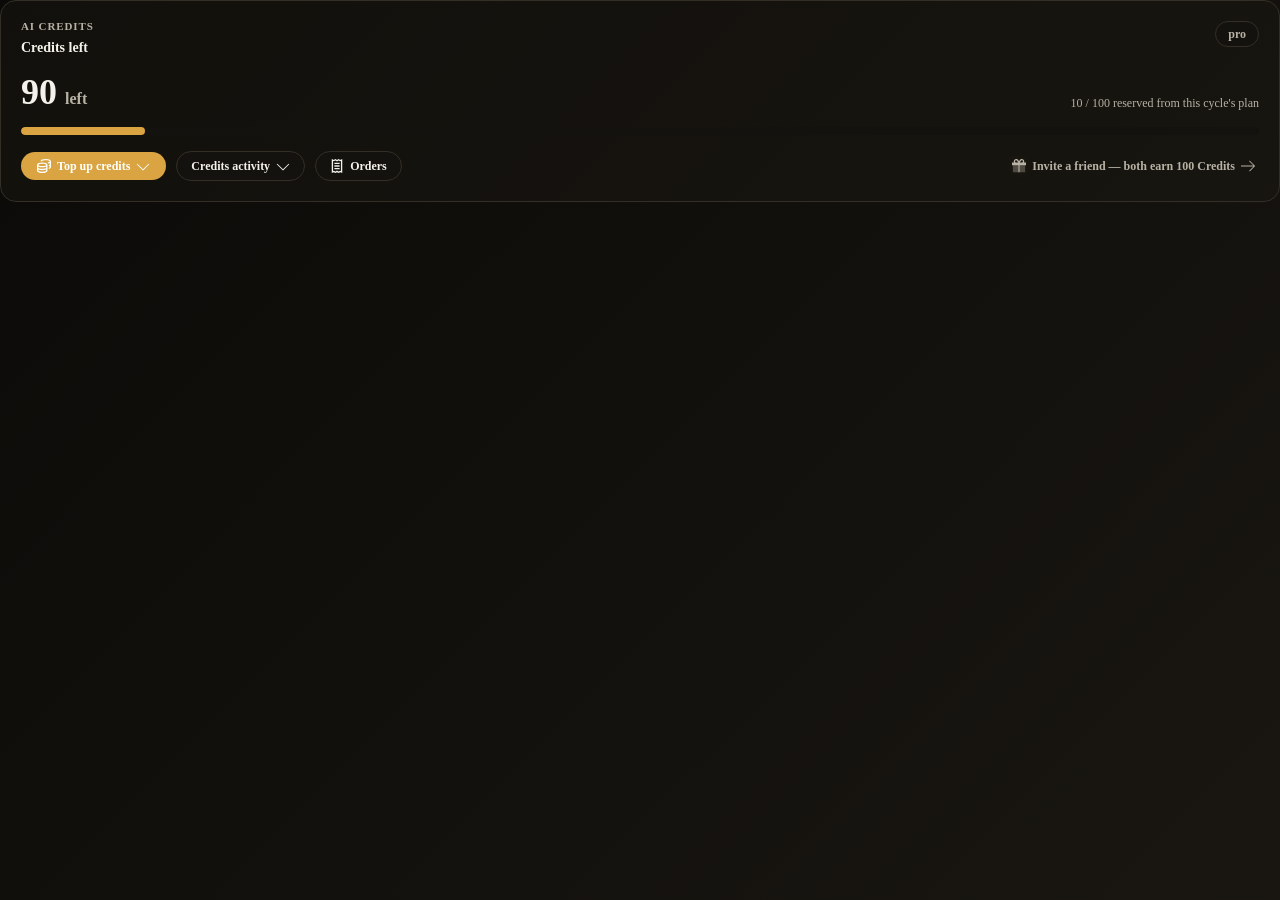
Scenario: CreditBalanceCard › reveals the activity ledger after a click
Click the button "Credits activity".
click(241, 166)  # box [176,151,305,181]
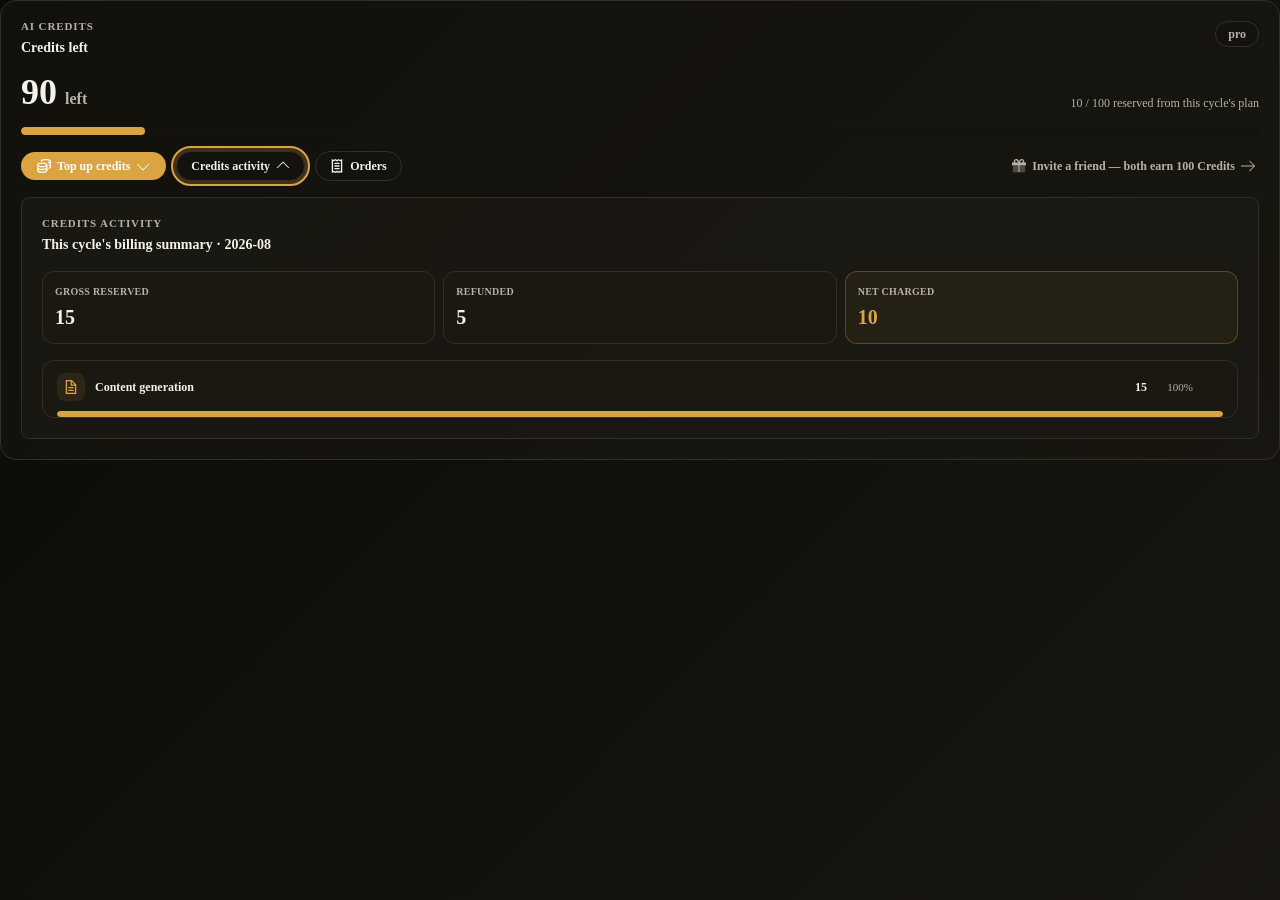
Check: the button "Credits activity" is expanded, box [176,151,305,181]
Check: the text "Net charged" is shown, box [858,286,934,297]
